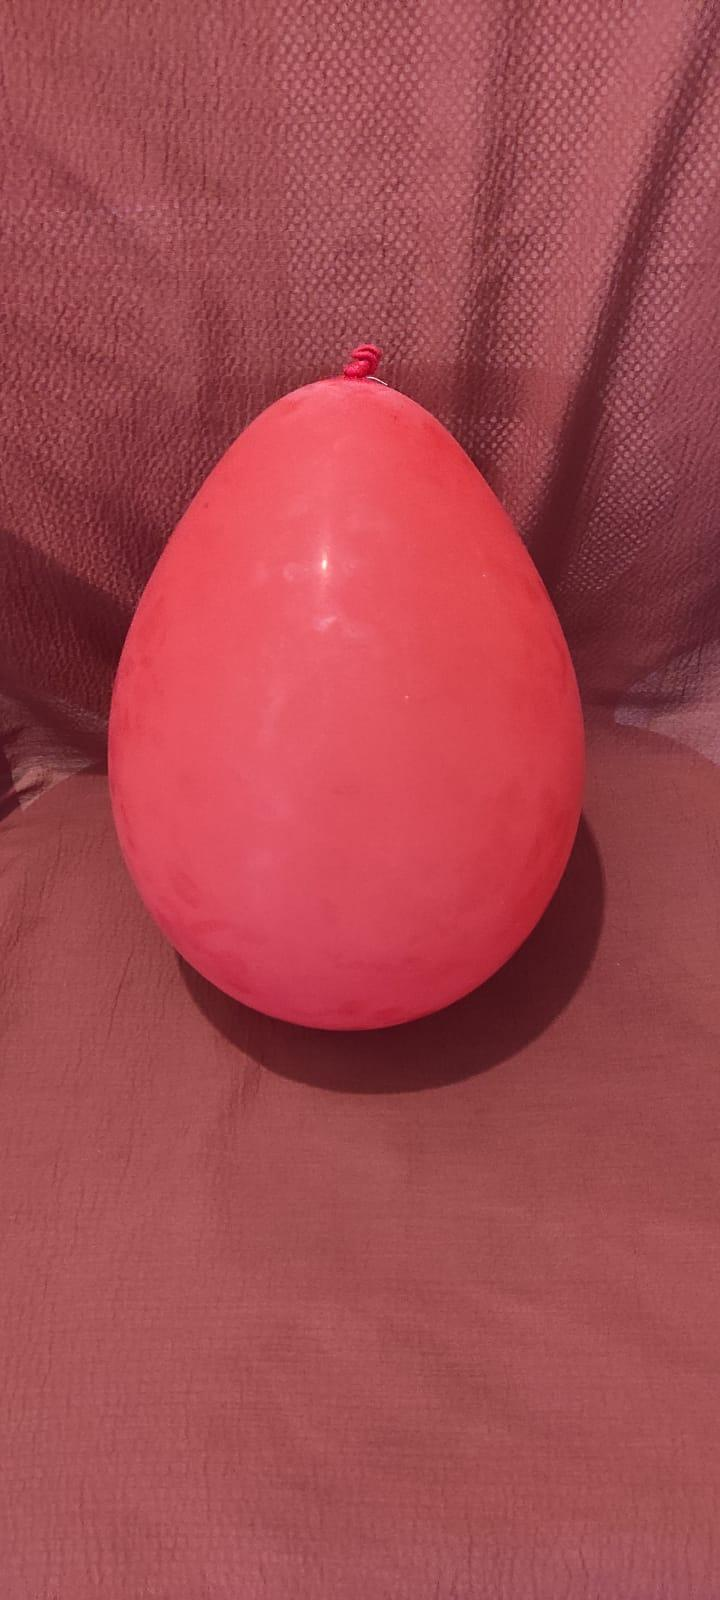red: (111, 334, 593, 1047)
